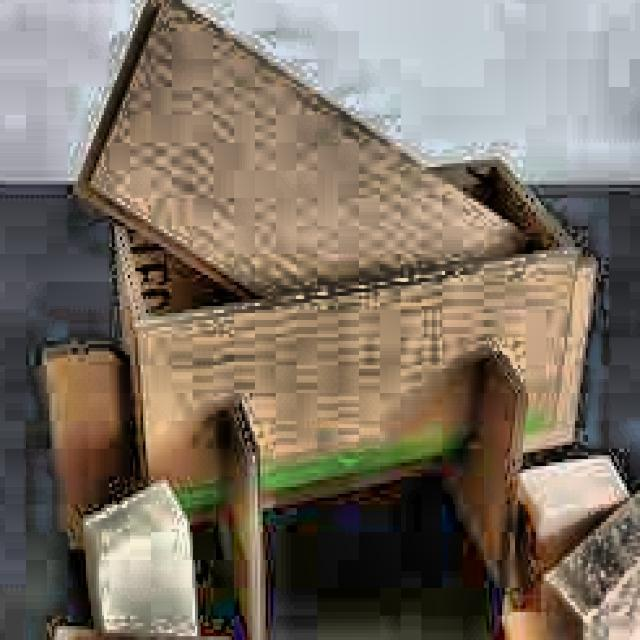cardboard: (73, 0, 601, 511)
